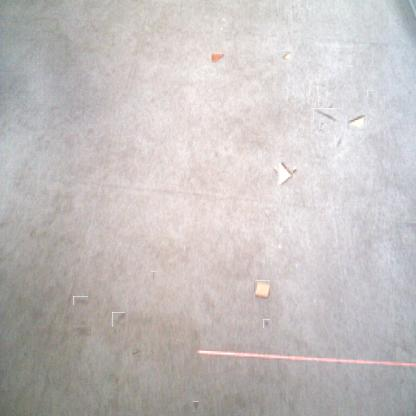dirty: (274, 162, 296, 184), (254, 280, 270, 299), (347, 115, 367, 129), (210, 51, 225, 63), (282, 50, 293, 62)
mark: (316, 105, 337, 126), (75, 323, 89, 338), (112, 312, 125, 326), (73, 296, 88, 305), (335, 134, 344, 148), (407, 218, 416, 229), (132, 346, 141, 356), (193, 401, 199, 412), (150, 271, 156, 282), (263, 319, 270, 328), (367, 90, 374, 97), (23, 350, 29, 358)
